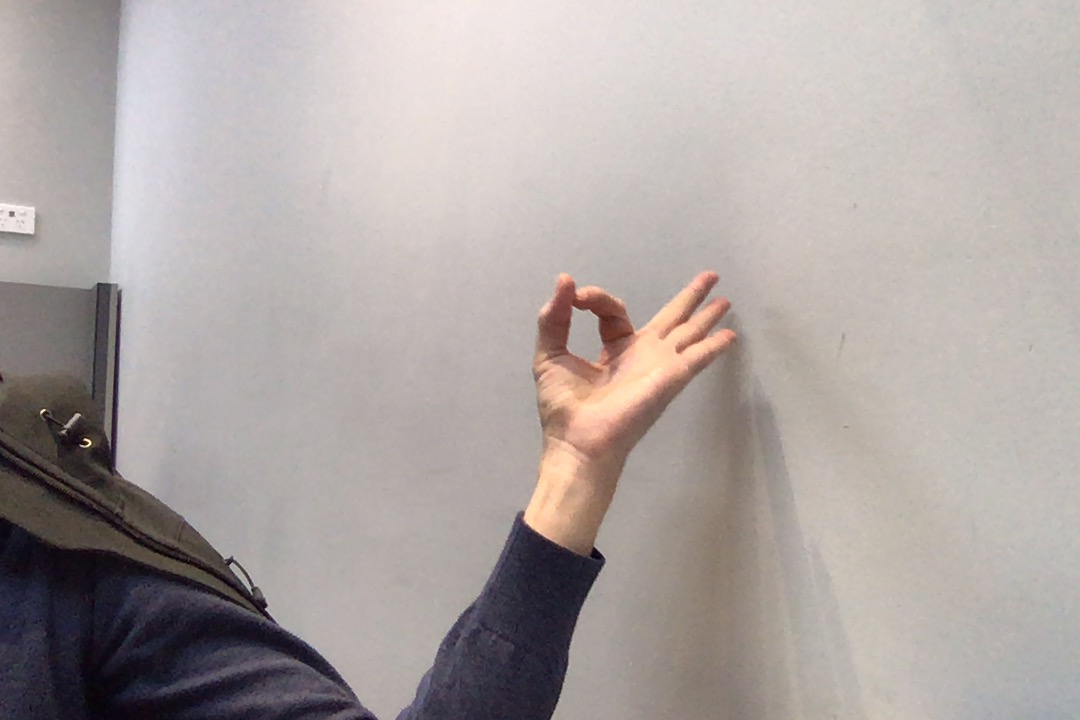oksign: (517, 260, 746, 469)
